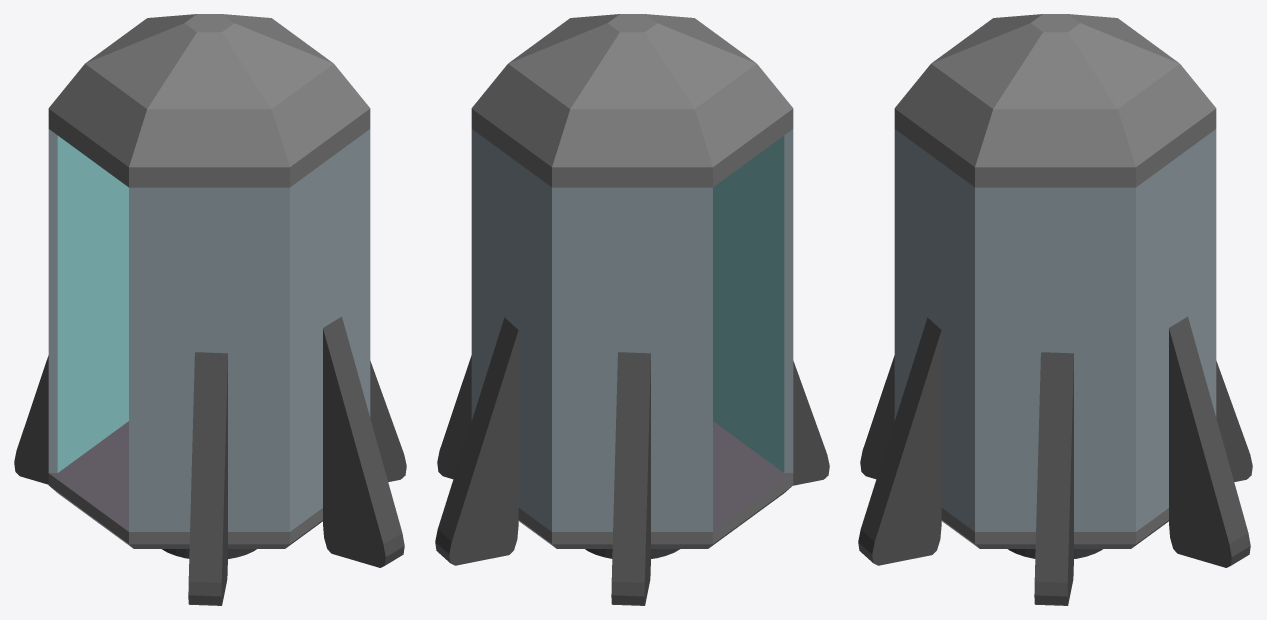
Rendered from NewRocket.fbx.
3 renders of one model, left to right at view 1: azimuth 30°, elevation 25°; view 2: azimuth 150°, elevation 25°; view 3: azimuth 270°, elevation 25°, orthographic.
Parts seen in each view (by area): view 1: NewRocket; view 2: NewRocket; view 3: NewRocket.
Part boxes in pixels (bbox=[...]): NewRocket: bbox=[14, 14, 406, 605]; NewRocket: bbox=[435, 14, 829, 605]; NewRocket: bbox=[858, 14, 1252, 605].
Size of the model in its own units: 240 by 380 by 265.
